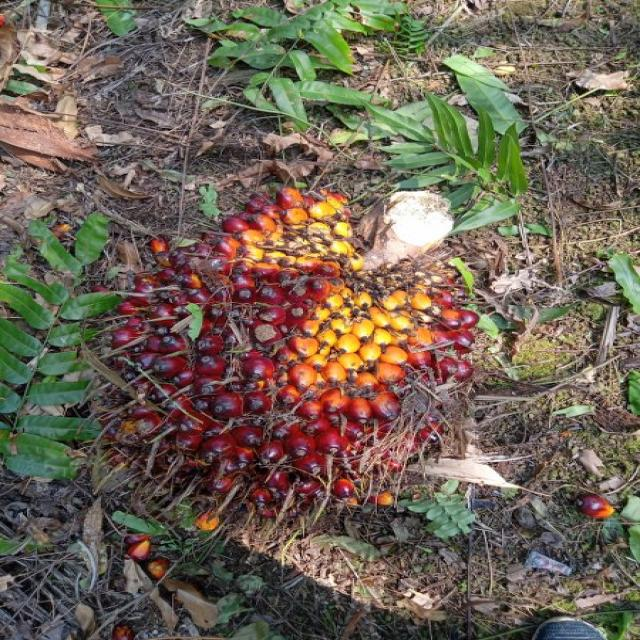fraksi 1: (22, 136, 531, 566)
